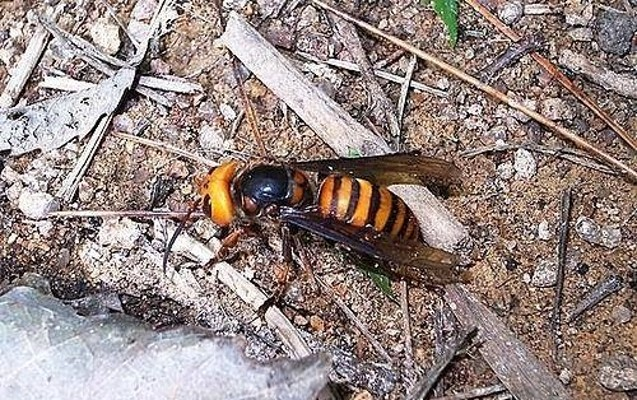asian_giant_hornet: (163, 148, 473, 289)
